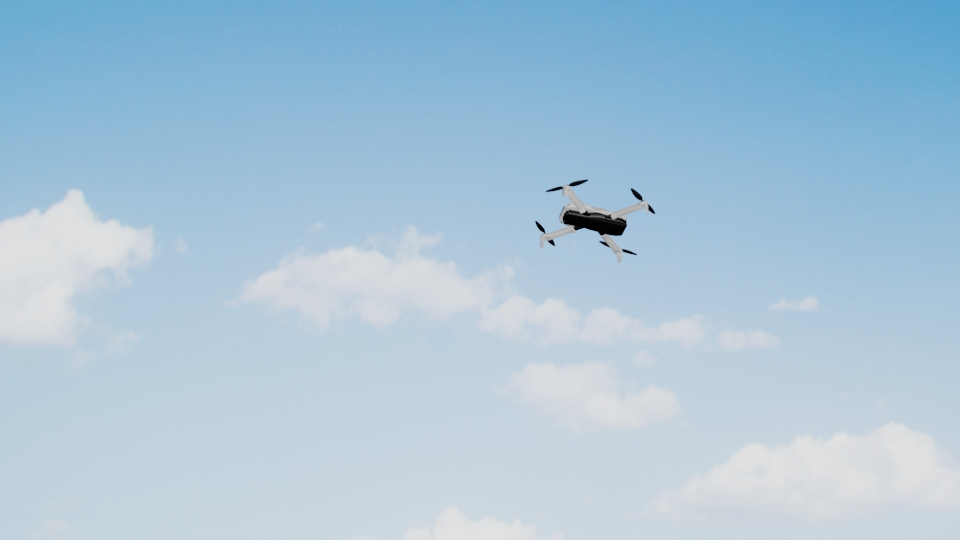drone: (535, 173, 655, 265)
